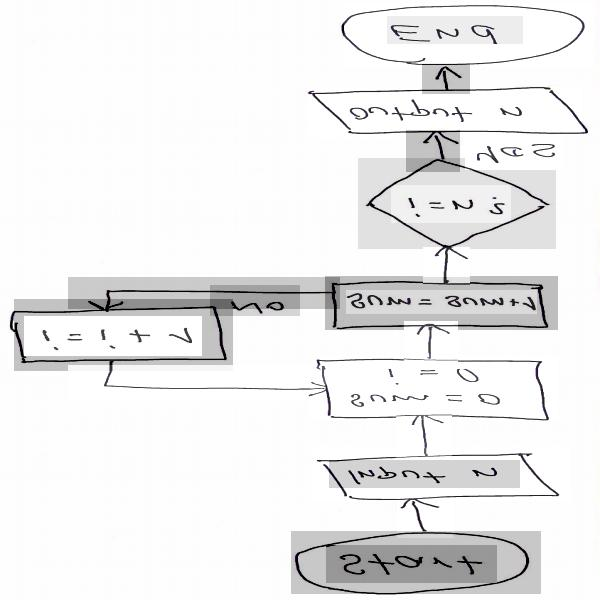arrow: (68, 365, 326, 401), (68, 277, 340, 309), (396, 413, 452, 460), (397, 493, 454, 538), (404, 321, 458, 364), (406, 130, 460, 172), (423, 246, 470, 284), (422, 64, 470, 94)
data: (14, 299, 233, 371), (313, 447, 570, 502), (307, 87, 582, 137)
decision: (358, 158, 556, 249)
process: (310, 354, 558, 421), (325, 276, 558, 330)
terminator: (344, 2, 594, 68), (291, 531, 541, 594)
text: (24, 316, 202, 356), (344, 369, 504, 410), (326, 544, 497, 582), (344, 98, 542, 130), (329, 460, 520, 488), (346, 290, 537, 314), (391, 185, 511, 223), (388, 16, 524, 44), (465, 138, 563, 170), (210, 285, 300, 316)
